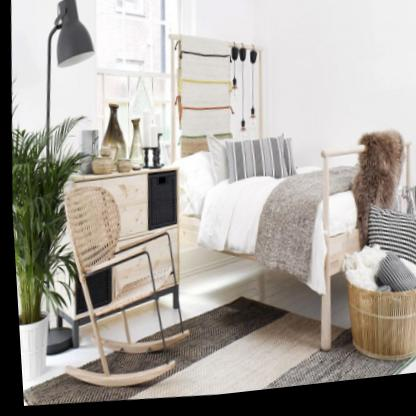Bed: (174, 137, 412, 336)
Carpet: (18, 304, 390, 405)
Chair: (48, 175, 197, 399)
